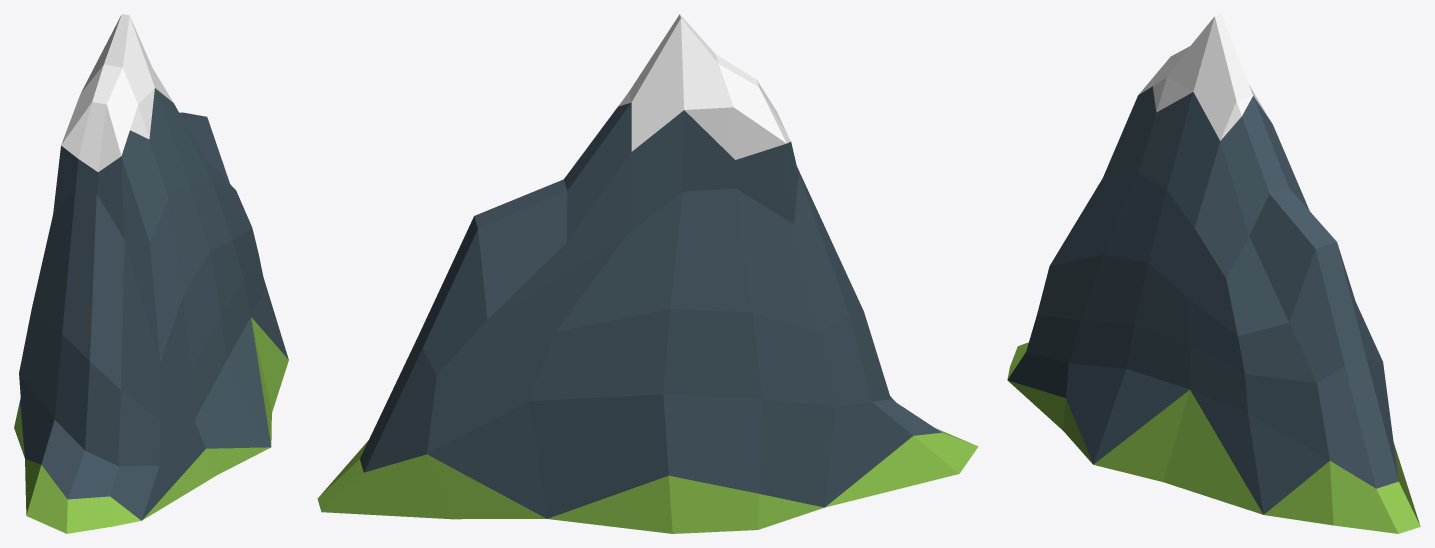
File: mountain_6_lev1.glb
3 renders of one model, left to right at view 1: azimuth 30°, elevation 25°; view 2: azimuth 150°, elevation 25°; view 3: azimuth 270°, elevation 25°, orthographic. The views are drawn at different scales.
Visible parts, largest first — view 1: mountain_6_lev1; view 2: mountain_6_lev1; view 3: mountain_6_lev1.
Boxes of the visible parts, x1=… form: mountain_6_lev1: x1=14, y1=14, x2=288, y2=533; mountain_6_lev1: x1=317, y1=14, x2=978, y2=533; mountain_6_lev1: x1=1007, y1=14, x2=1420, y2=533.
Bounding box in the file's own units: 21.3 × 20.97 × 19.22.
